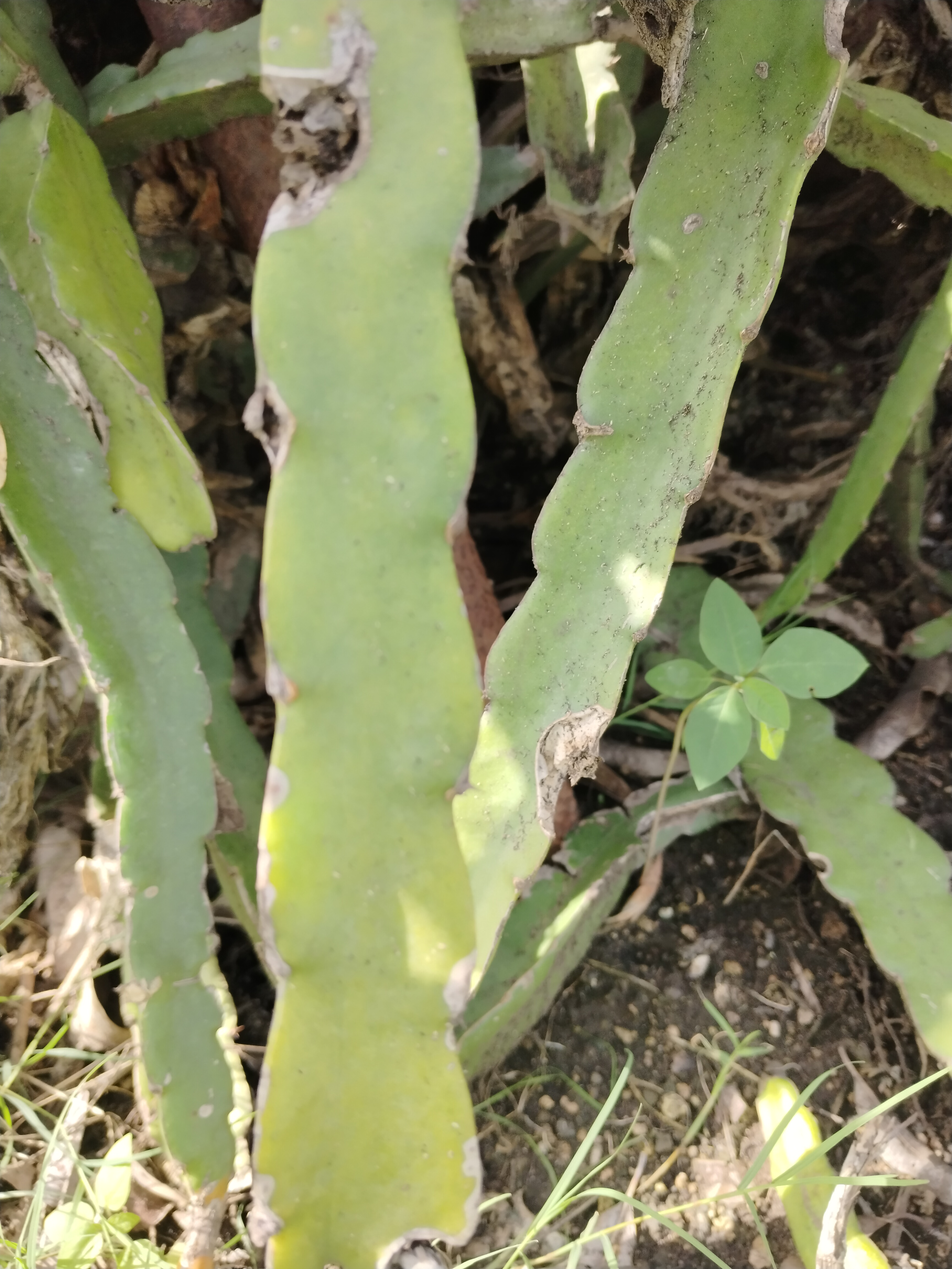stemcanker: (452, 1, 880, 999), (244, 1, 512, 1269), (1, 237, 259, 1204)
